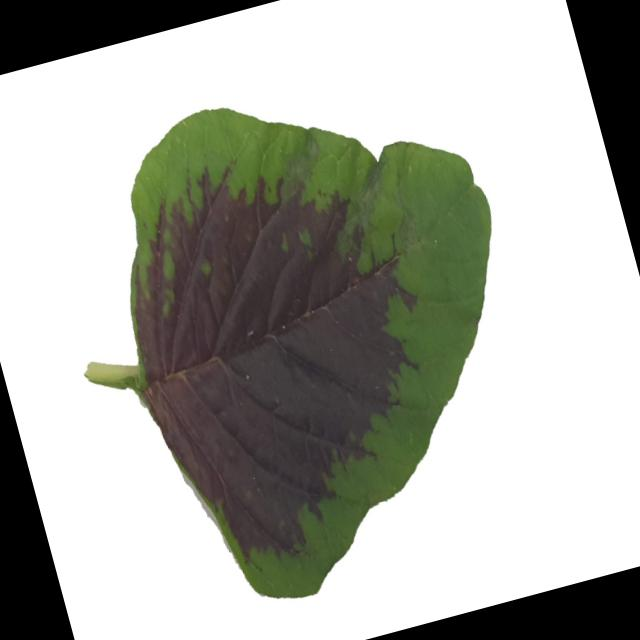Medicinal-Arive Dantu: (23, 36, 574, 632)
